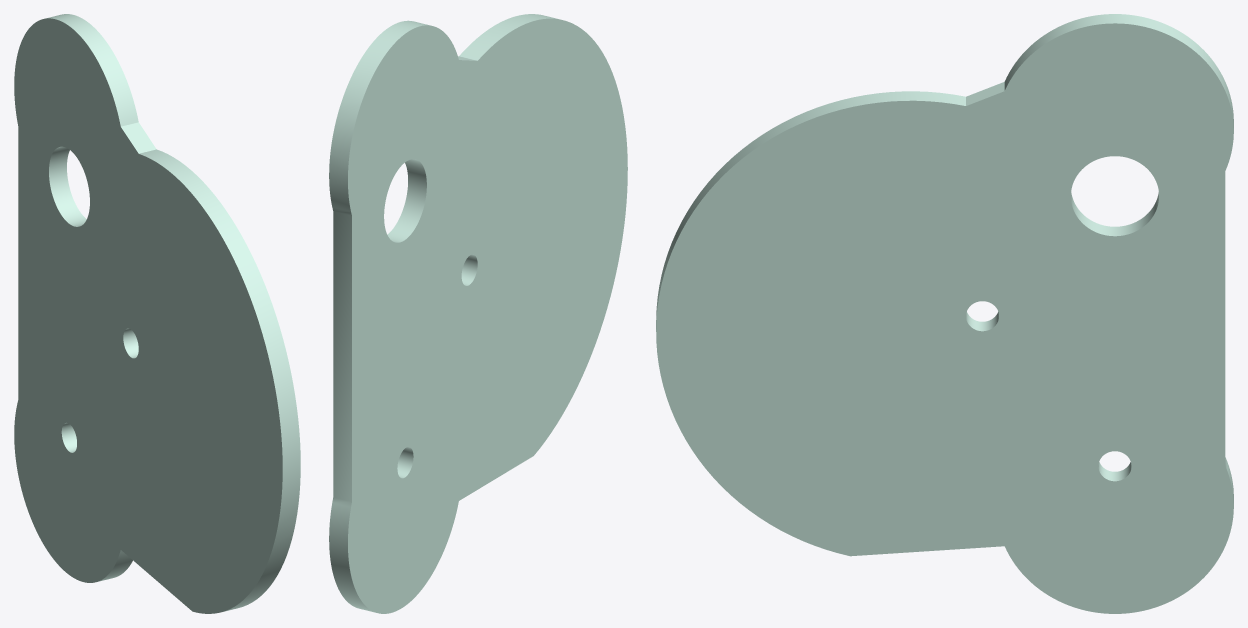
The picture shows the model from 3 angles, left to right: view 1: azimuth 30°, elevation 25°; view 2: azimuth 150°, elevation 25°; view 3: azimuth 270°, elevation 25°; orthographic projection. The views are drawn at different scales.
Visible parts, largest first — view 1: Renderer Node; view 2: Renderer Node; view 3: Renderer Node.
Boxes of the visible parts, x1,y1,x2,y2 form: Renderer Node: (14,14,300,613); Renderer Node: (329,14,627,613); Renderer Node: (656,14,1233,613).
Size of the model in its own units: 0.0547 by 1.59 by 1.41.
